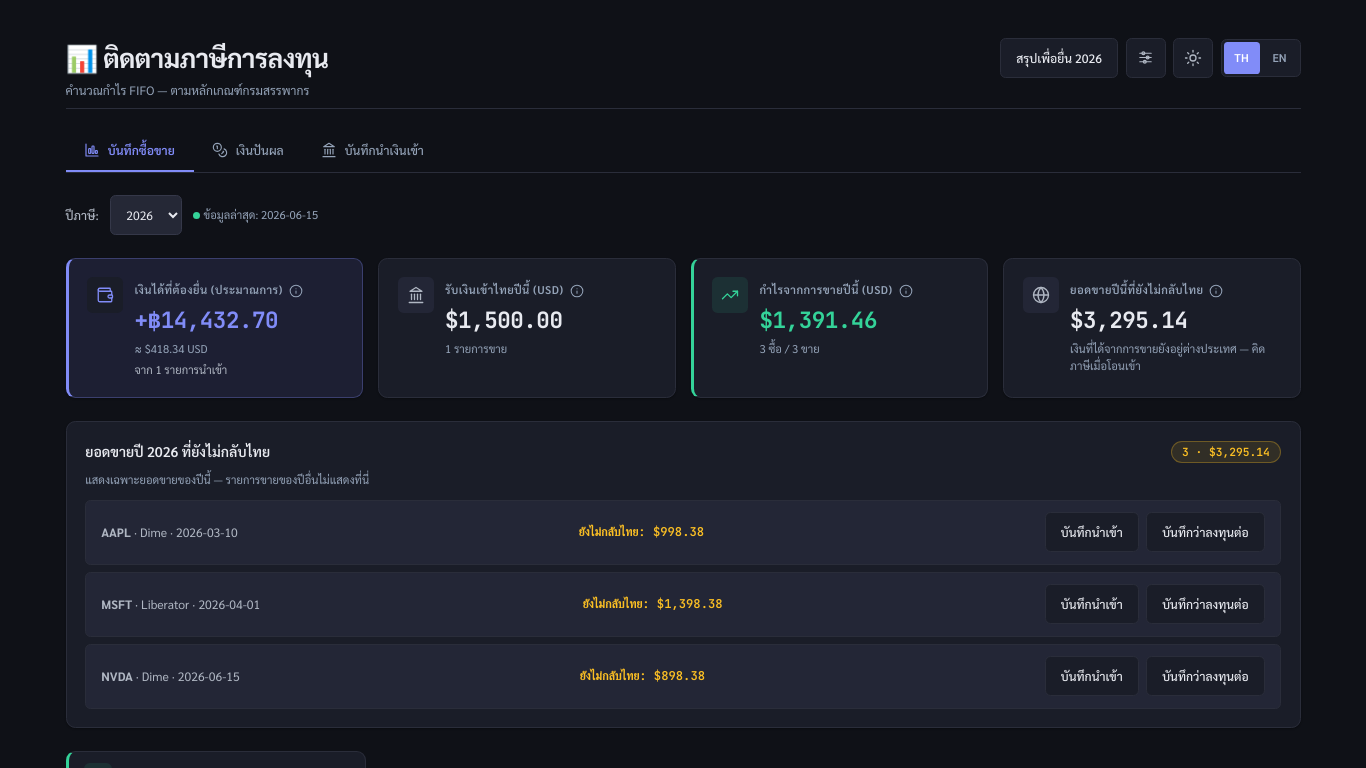
it: outstanding proceeds list › opens the remit form with the row it was clicked from preselected
expect the list item with class "outstanding-row" that starts with "NVDA" is shown: met, box [85,644,1281,709]
Click the 3rd button "บันทึกนำเข้า" at (1092, 676), box [1045,656,1139,696]
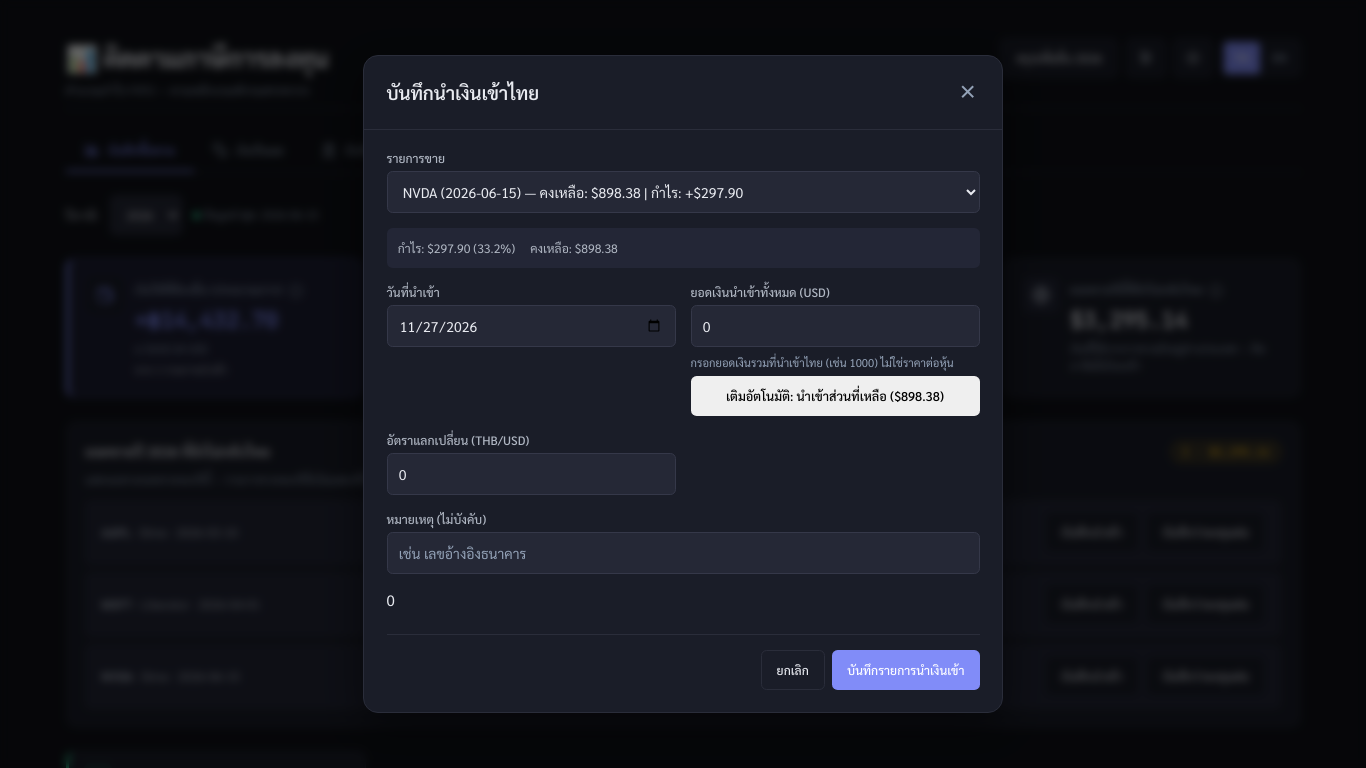
expect the dropdown with id "remit-trade" shows "NVDA (2026-06-15) — คงเหลือ: $898.38 | กำไร: +$297.90": met, box [386,171,980,213]
